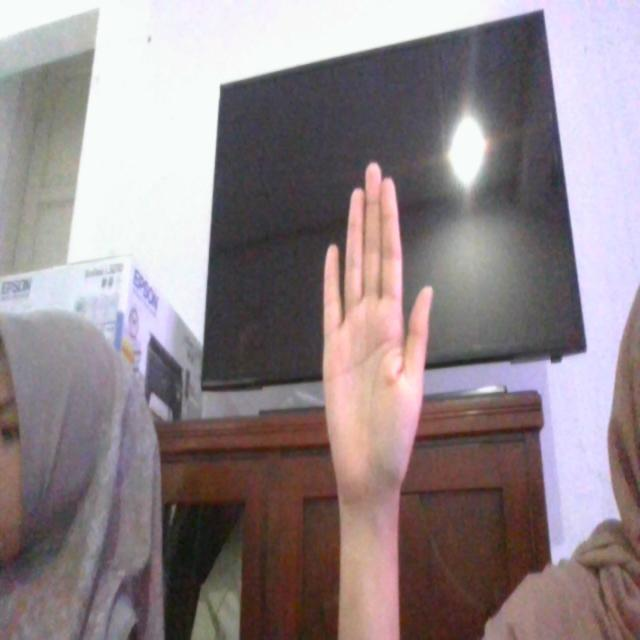hand: (281, 71, 450, 640)
